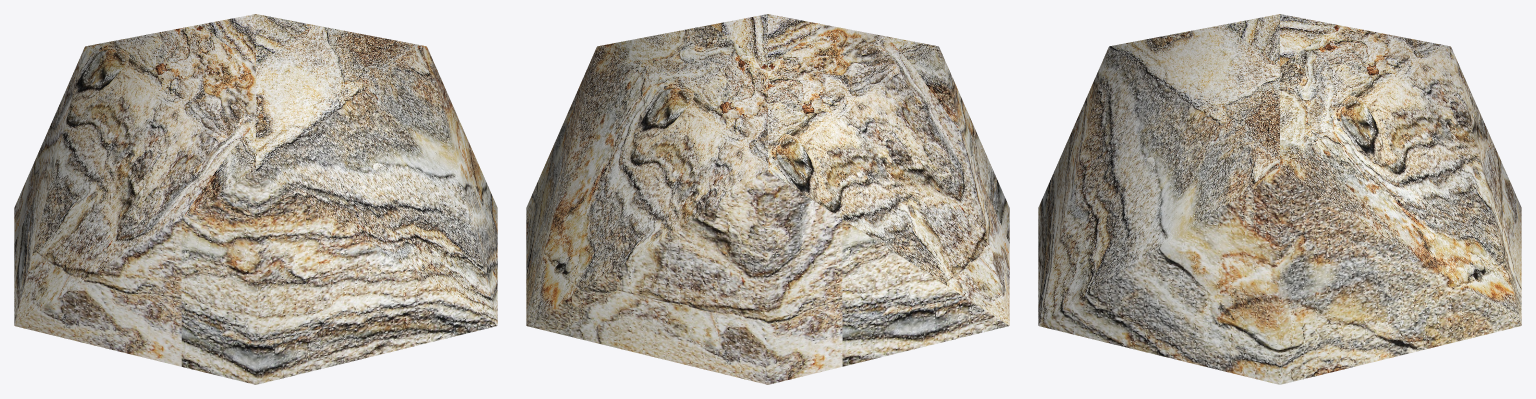
The model's file is stein3.DAE.
The picture shows the model from 3 angles, left to right: view 1: azimuth 30°, elevation 25°; view 2: azimuth 150°, elevation 25°; view 3: azimuth 270°, elevation 25°; orthographic projection.
Visible parts, largest first — view 1: Geosph_re001; view 2: Geosph_re001; view 3: Geosph_re001.
Part boxes in pixels (left/top/right/bottom): Geosph_re001: left=14, top=14, right=497, bottom=384; Geosph_re001: left=526, top=14, right=1009, bottom=384; Geosph_re001: left=1038, top=14, right=1521, bottom=384.
Size of the model in its own units: 66.78 by 57.83 by 33.39.
